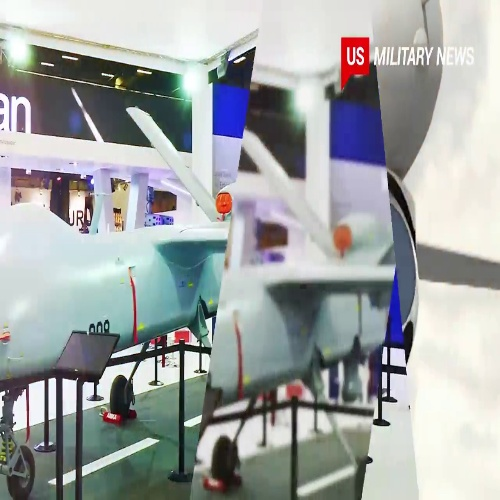uav: (1, 107, 186, 497)
